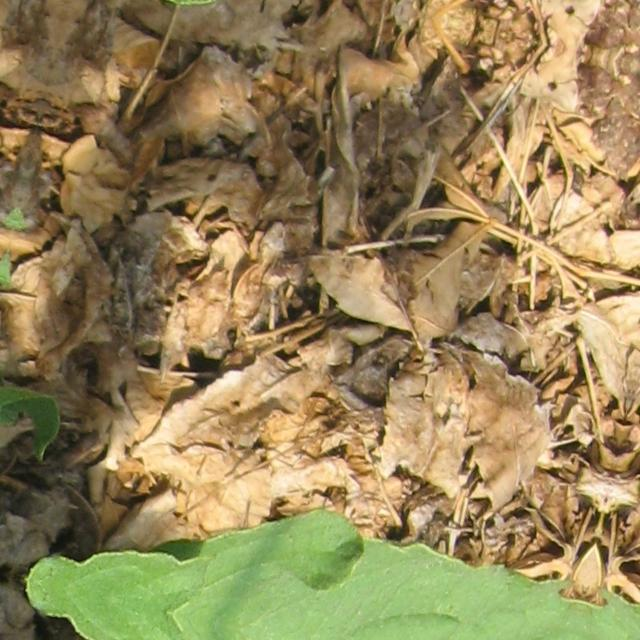Tomato leaf: (0, 413, 593, 640), (65, 0, 422, 84), (0, 124, 66, 462)
